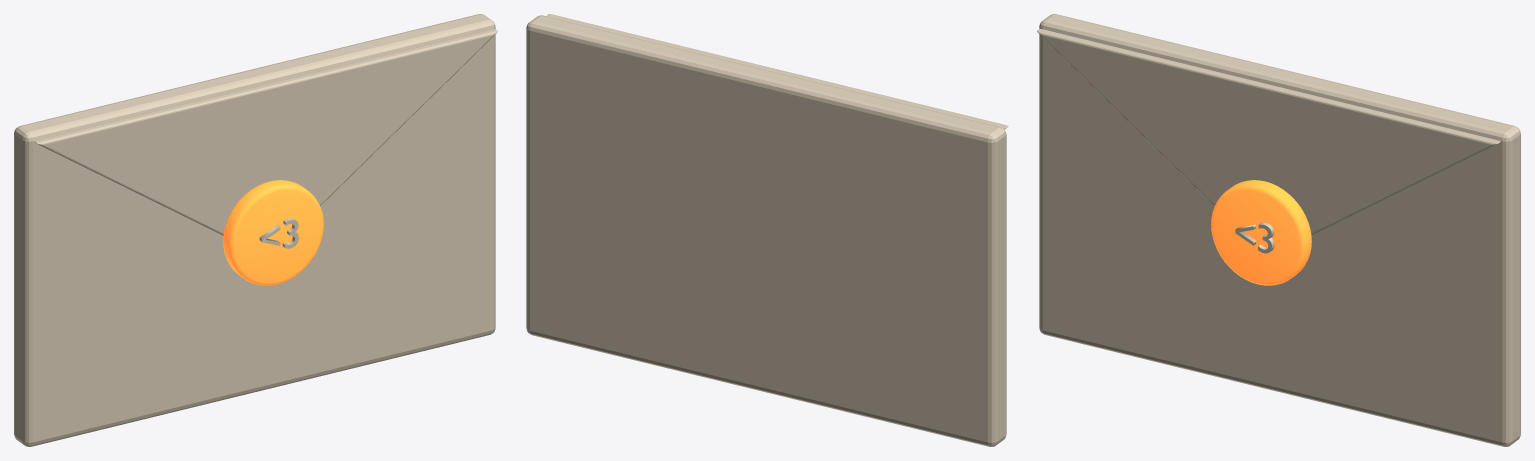
Rendered from envelope.glb.
3 views of the same model, side by side, from view 1: azimuth 30°, elevation 25°; view 2: azimuth 150°, elevation 25°; view 3: azimuth 330°, elevation 25° (orthographic).
Parts seen in each view (by area): view 1: Env, Flap, Seal, Heart; view 2: Env, Flap; view 3: Env, Flap, Seal, Heart.
Boxes of the visible parts, x1,y1,x2,y2 form: Env: (14,14,495,446); Flap: (34,29,497,235); Seal: (223,180,323,285); Heart: (259,218,298,248); Env: (526,15,1006,446); Flap: (546,14,1008,129); Env: (1039,14,1520,446); Flap: (1037,29,1500,235); Seal: (1211,180,1311,285); Heart: (1235,222,1274,253).
Bounding box in the file's own units: 2.2 × 1.4 × 0.27.
